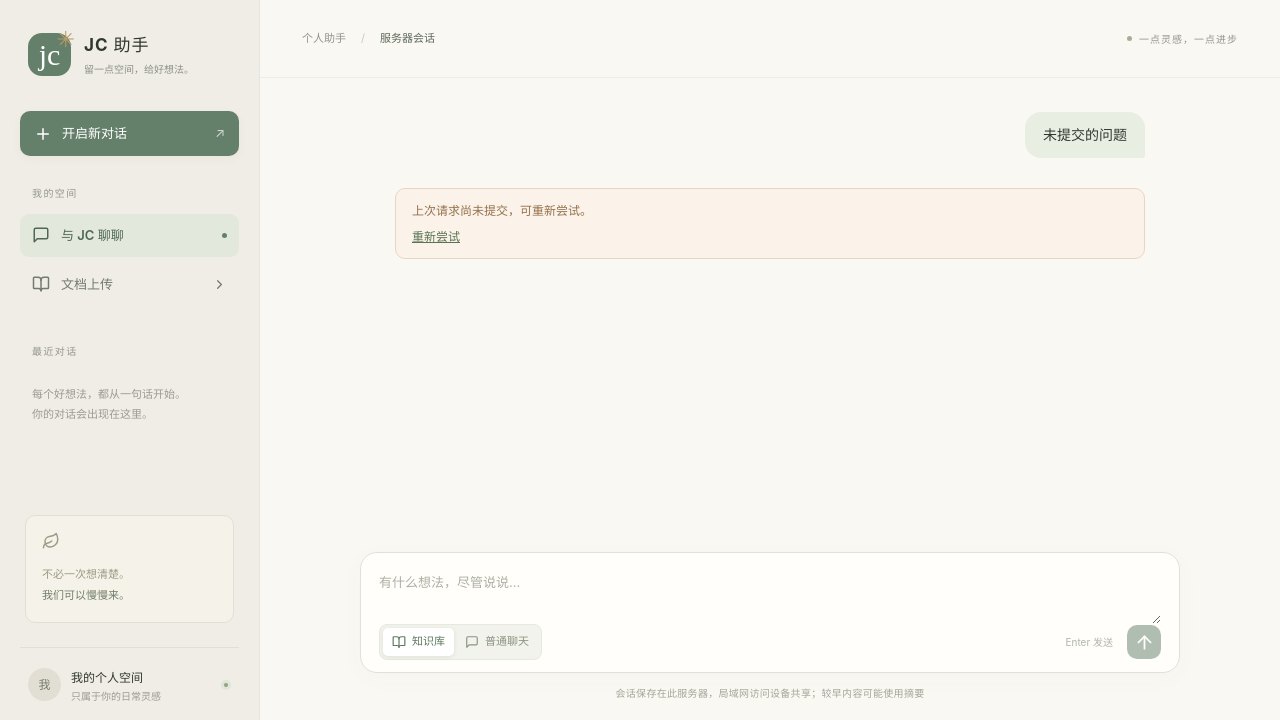
Test: 服务器多轮会话 › 刷新后恢复未提交请求，允许用原 ID 重试
Expected: the message shows "尚未提交", [412,203,592,218]
Click the button "重新尝试".
click(436, 236)  # box [412,227,460,246]
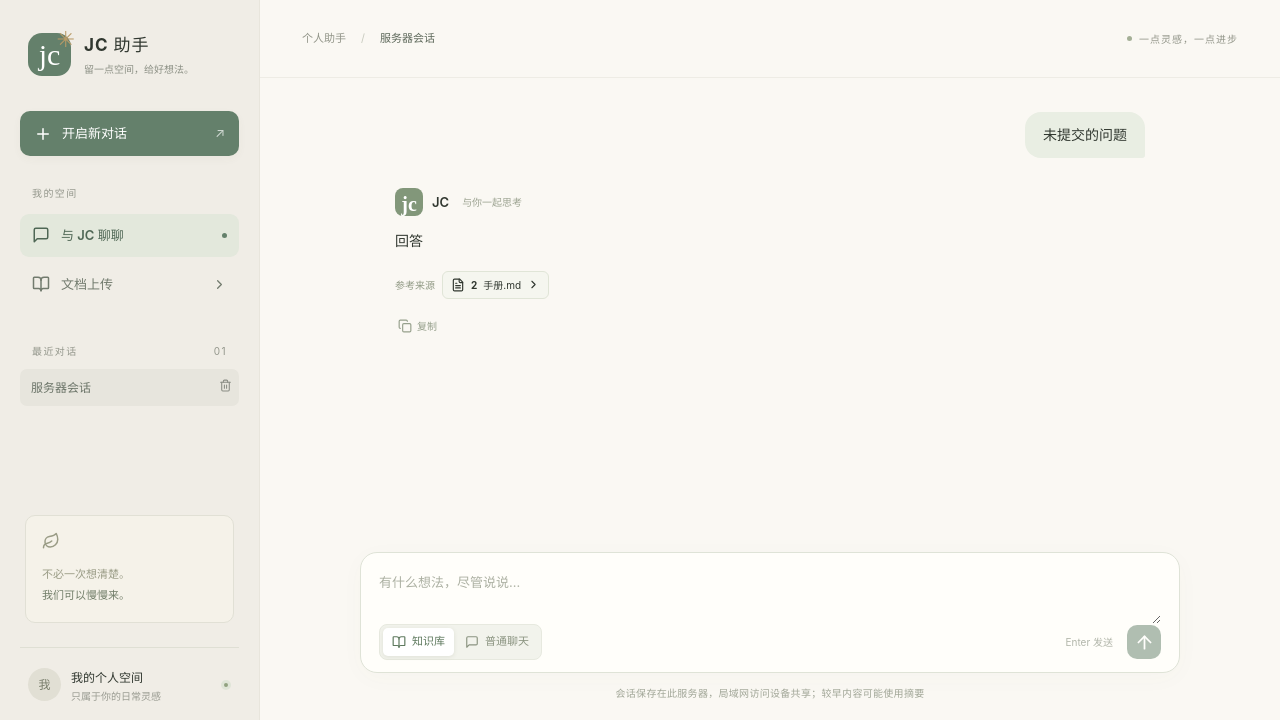
Result: the text "回答" is shown at [395,232,423,249]
